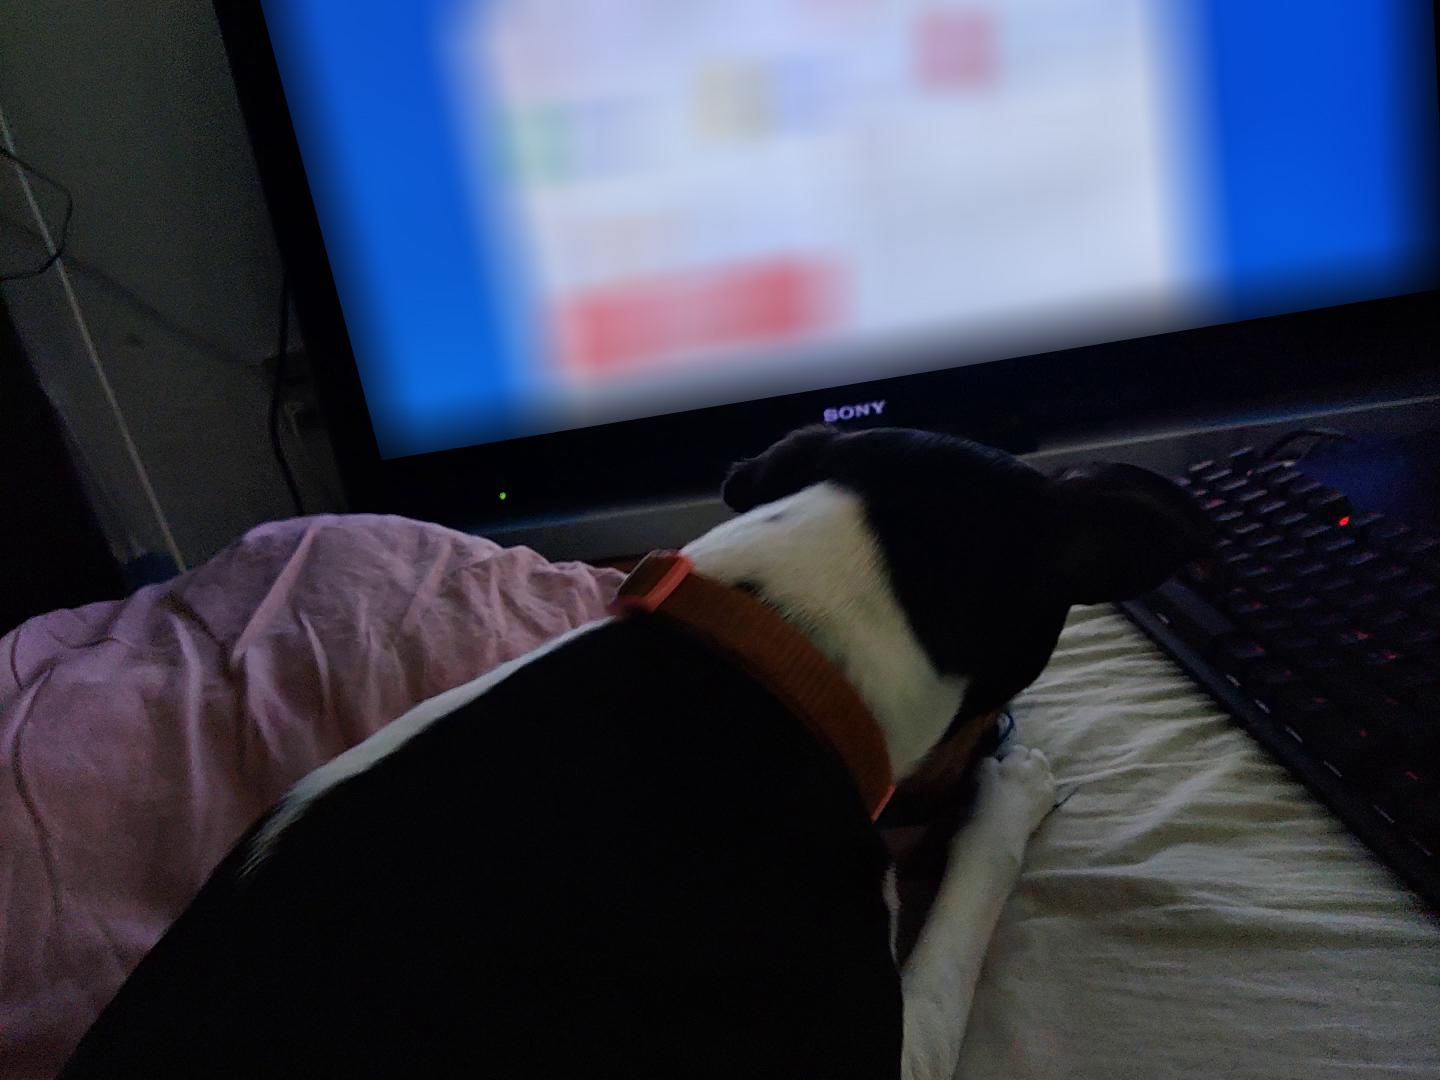Dog: (36, 417, 1228, 1079)
